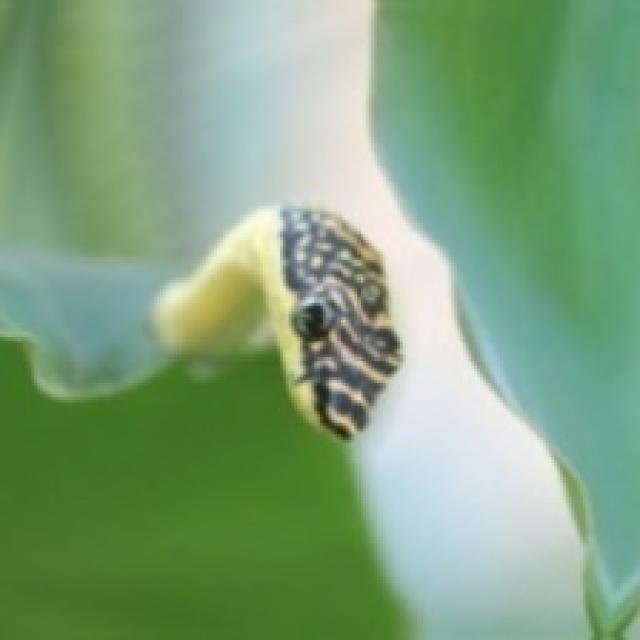paradise tree snake: (154, 206, 397, 434), (280, 206, 397, 434)
